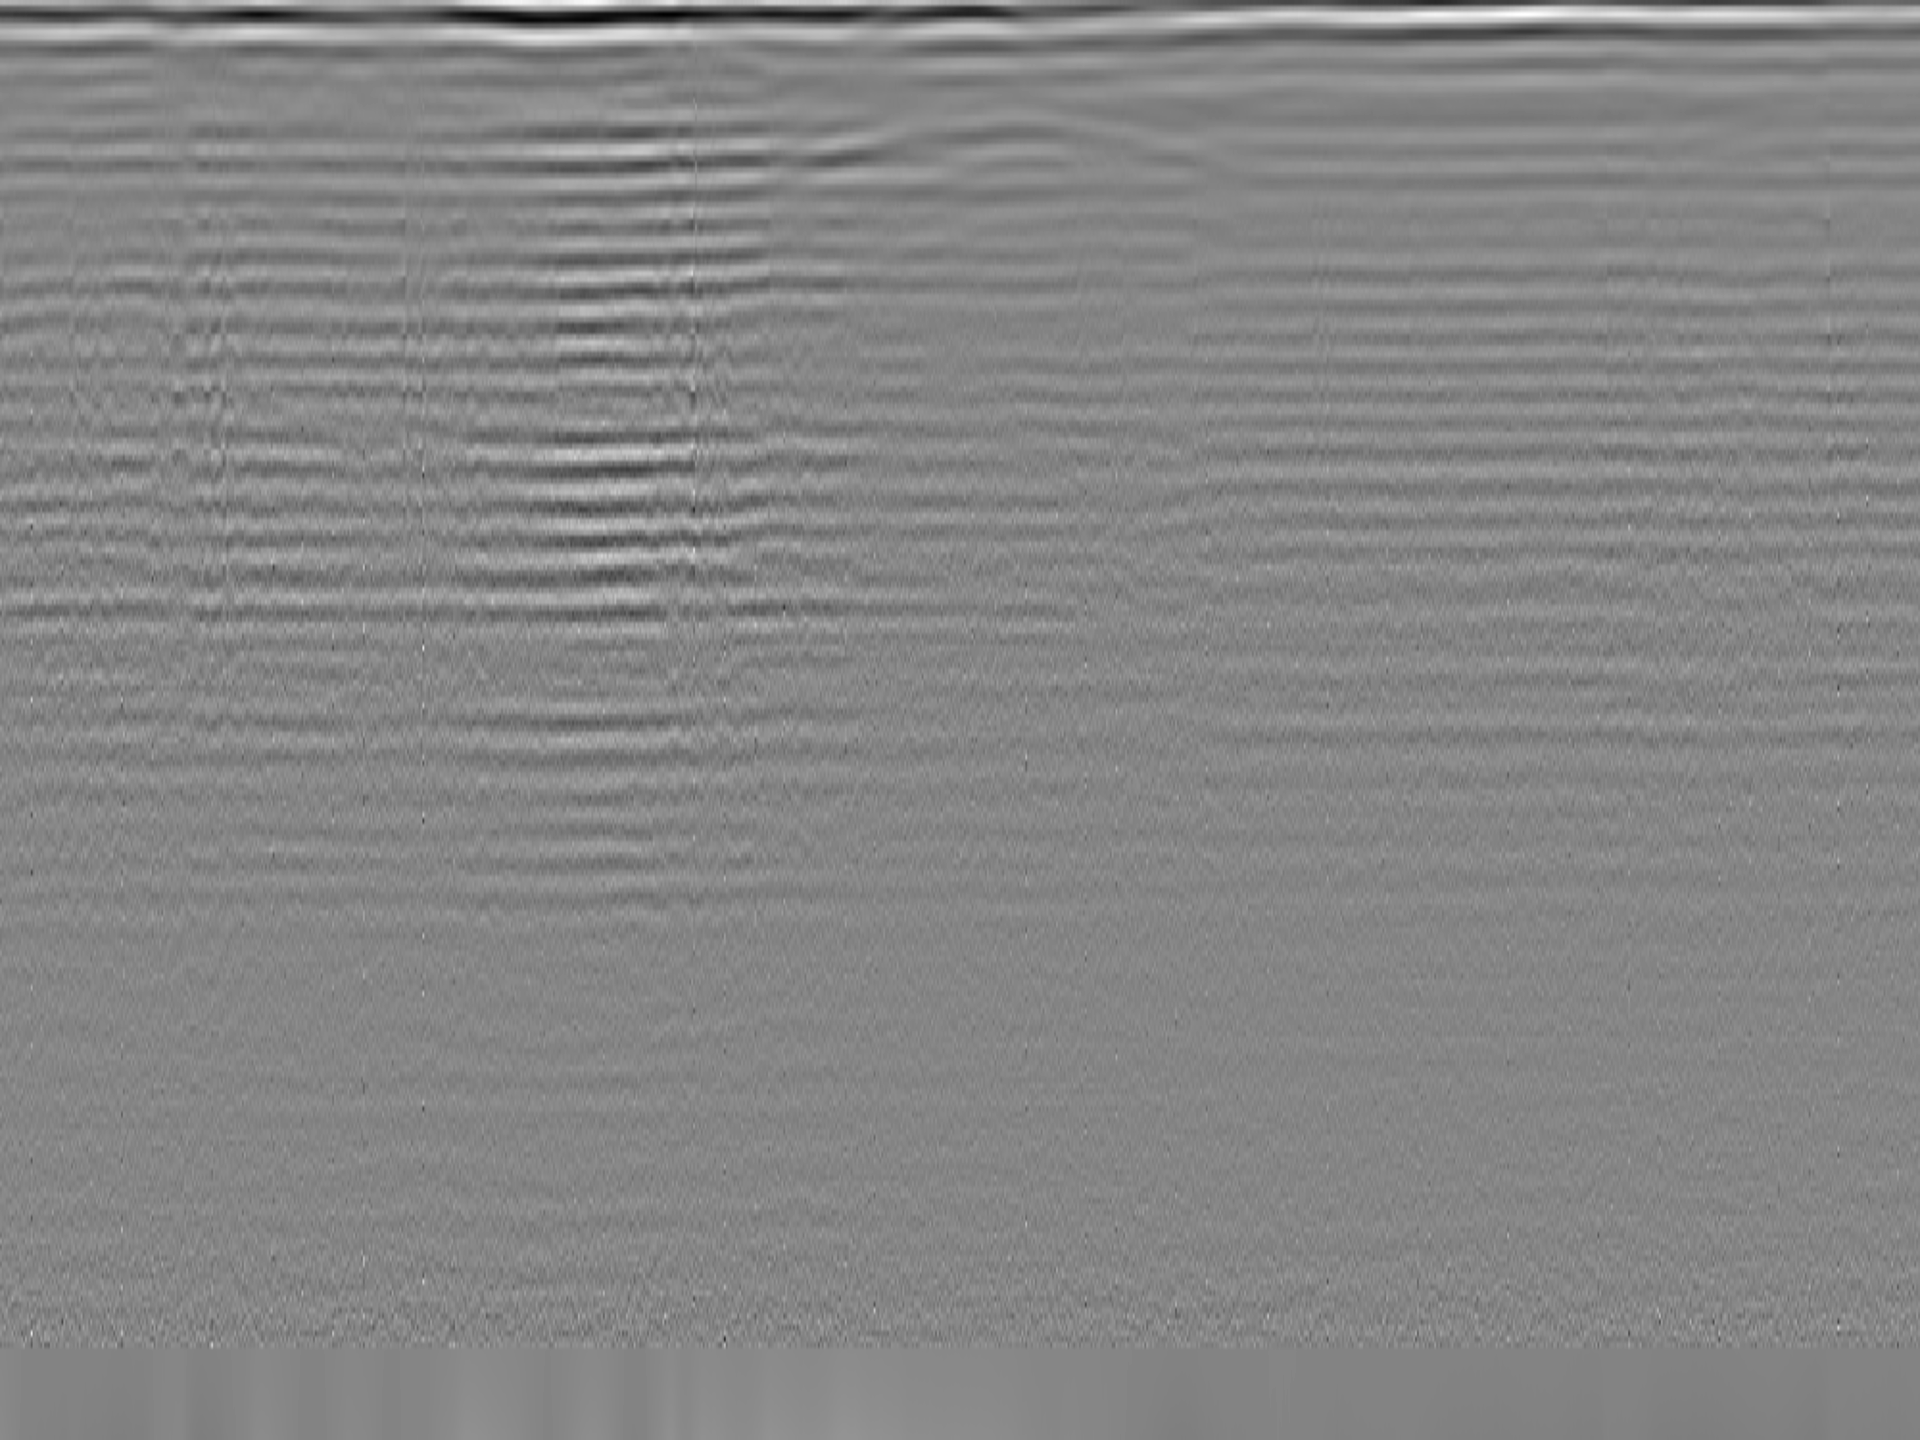Tunnel: (756, 104, 1253, 172)
